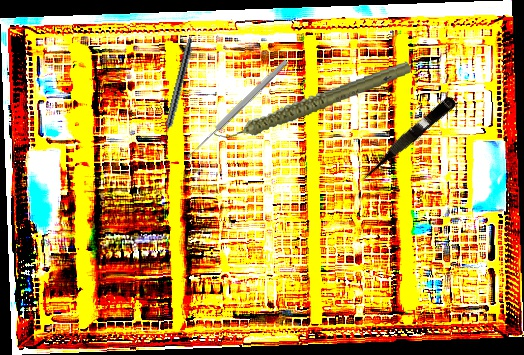Handpiece: (208, 59, 417, 143), (158, 36, 195, 146)
Micro Scissor: (353, 92, 459, 187)
Surgical Spoon: (184, 58, 290, 160)
